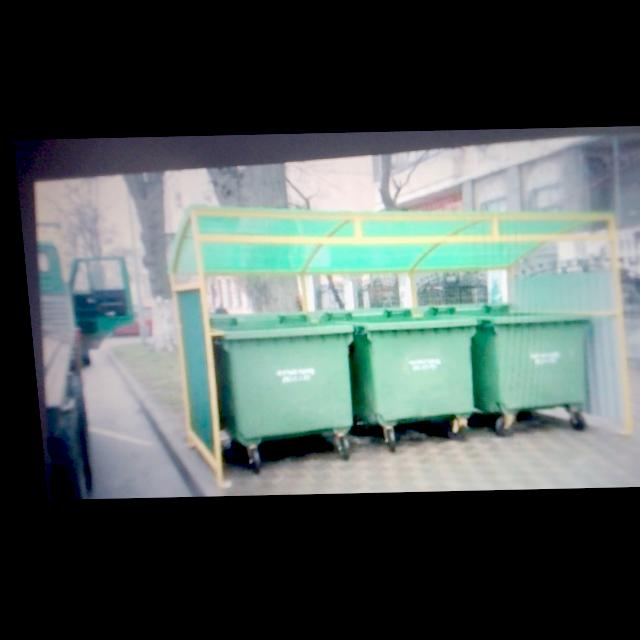Trash_Can_Empty: (206, 318, 357, 443), (442, 308, 594, 416), (328, 316, 477, 426)
